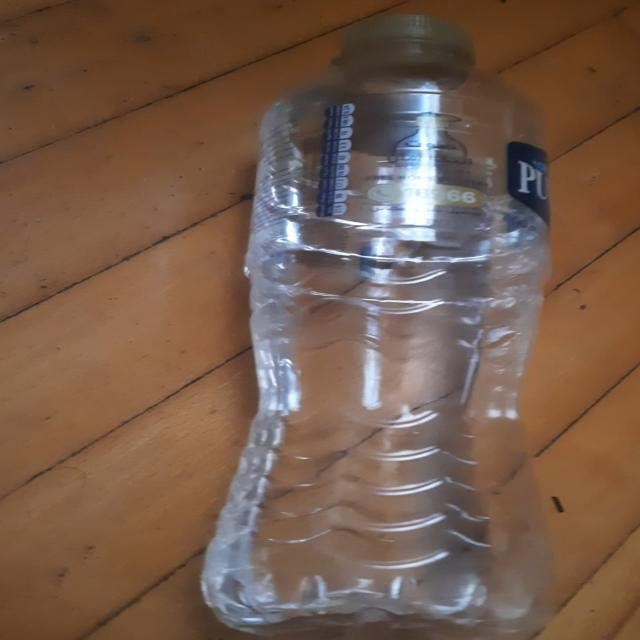Plastic: (219, 8, 575, 635)
